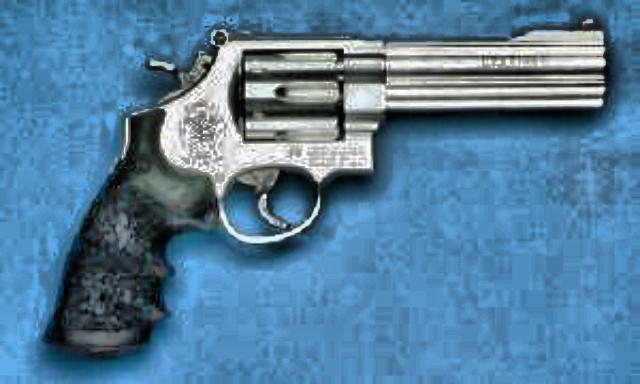pistol: (32, 14, 600, 356)
